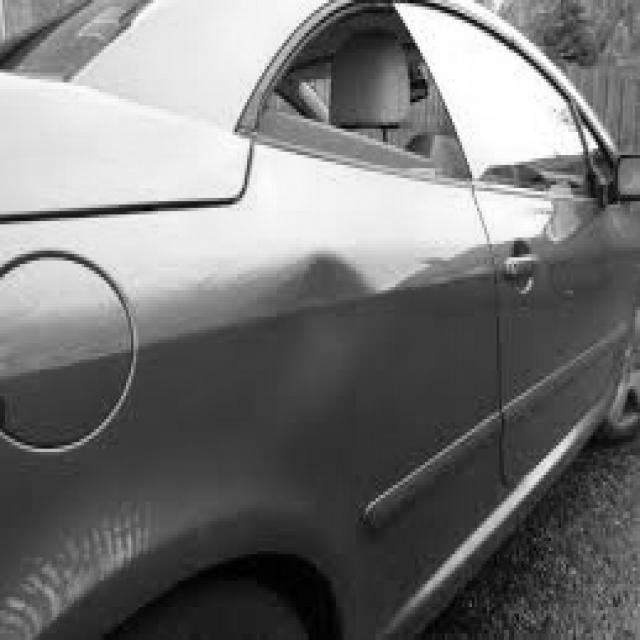quaterpanel-dent: (53, 192, 438, 634)
